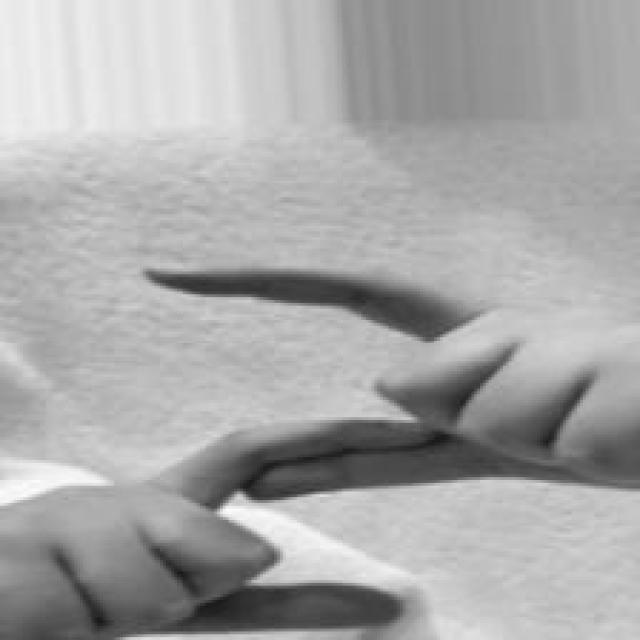S: (0, 249, 640, 637)
